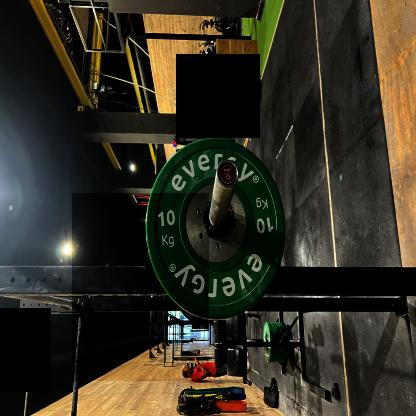barbell: (73, 194, 210, 382)
